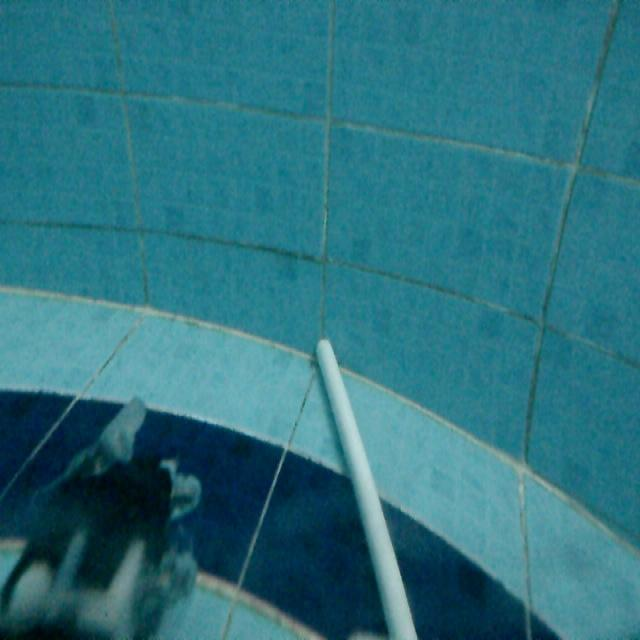Cube: (309, 331, 430, 638)
